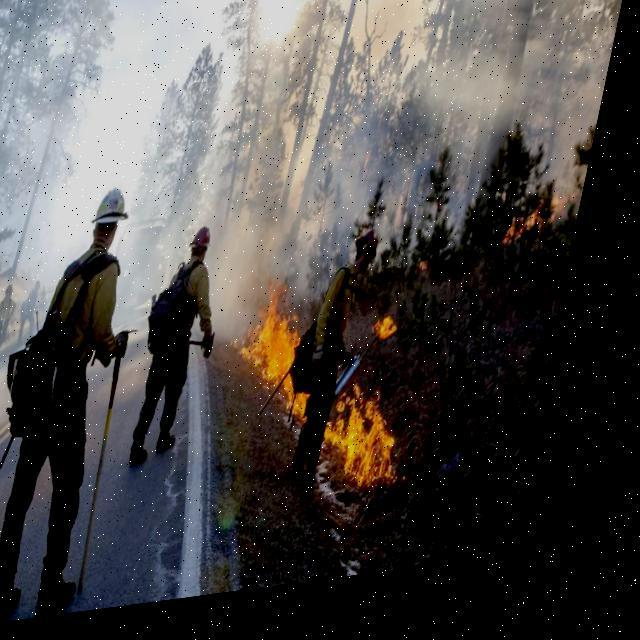Fire: (235, 294, 348, 438), (336, 387, 426, 505), (516, 205, 582, 261), (391, 326, 416, 354)
